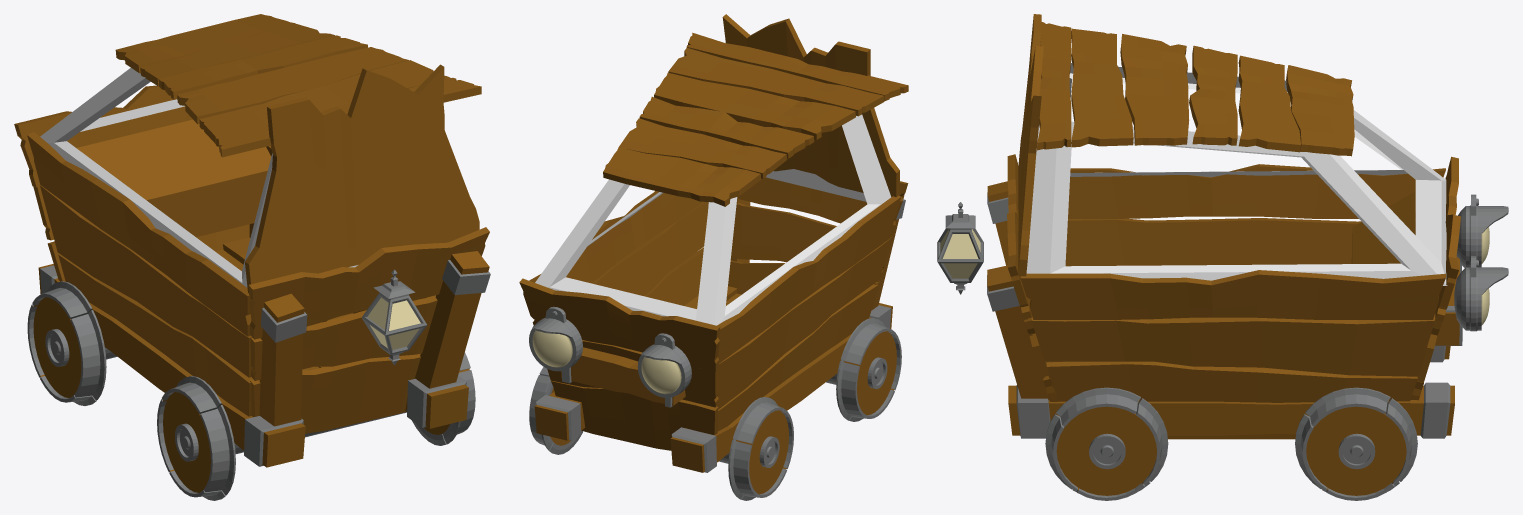
The model's file is cart_wip.fbx.
3 views of the same model, side by side, from view 1: azimuth 30°, elevation 25°; view 2: azimuth 150°, elevation 25°; view 3: azimuth 270°, elevation 25° (orthographic). The views are drawn at different scales.
Parts seen in each view (by area): view 1: Cube.032, Cube.023, Cube.013, Cube.012, Cube.004, Cube.005, Cube.024, wheel.002, wheel.003, Cube.017, Cube.014, Cube.030 (+15 smaller); view 2: Cube.024, Cube.032, Cube.010, Cube.013, Cube.012, Cube.009, Cube.030, Cube.027, Cube.031, Cube.017, wheel.002, wheel.003 (+19 smaller); view 3: Cube.024, Cube.008, Cube.007, Cube.013, Cube.012, Cube.006, wheel, wheel.004, Cube.020, Cube.030, Cube.031, Cube.027 (+16 smaller).
Part boxes in pixels (x1=…): Cube.032: x1=245, y1=64, x2=479, y2=298; Cube.023: x1=76, y1=119, x2=271, y2=237; Cube.013: x1=27, y1=132, x2=251, y2=336; Cube.012: x1=40, y1=185, x2=252, y2=377; Cube.004: x1=248, y1=227, x2=489, y2=339; Cube.005: x1=250, y1=353, x2=420, y2=433; Cube.024: x1=40, y1=68, x2=357, y2=287; wheel.002: x1=157, y1=376, x2=235, y2=500; wheel.003: x1=27, y1=281, x2=106, y2=405; Cube.017: x1=38, y1=264, x2=305, y2=467; Cube.014: x1=58, y1=254, x2=252, y2=416; Cube.030: x1=177, y1=47, x2=408, y2=124; Cube.024: x1=535, y1=114, x2=890, y2=325; Cube.032: x1=722, y1=14, x2=899, y2=197; Cube.010: x1=519, y1=278, x2=720, y2=372; Cube.013: x1=717, y1=195, x2=901, y2=363; Cube.012: x1=717, y1=238, x2=890, y2=409; Cube.009: x1=551, y1=380, x2=718, y2=450; Cube.030: x1=654, y1=72, x2=855, y2=139; Cube.027: x1=603, y1=147, x2=761, y2=206; Cube.031: x1=668, y1=47, x2=884, y2=116; Cube.017: x1=670, y1=303, x2=892, y2=472; wheel.002: x1=836, y1=318, x2=901, y2=421; wheel.003: x1=728, y1=397, x2=793, y2=500; Cube.024: x1=1026, y1=63, x2=1447, y2=285; Cube.008: x1=1031, y1=316, x2=1434, y2=376; Cube.007: x1=1020, y1=270, x2=1445, y2=319; Cube.013: x1=1068, y1=164, x2=1445, y2=218; Cube.012: x1=1065, y1=218, x2=1415, y2=266; Cube.006: x1=1046, y1=361, x2=1417, y2=434; wheel: x1=1045, y1=387, x2=1168, y2=500; wheel.004: x1=1295, y1=387, x2=1417, y2=500; Cube.020: x1=1008, y1=382, x2=1454, y2=438; Cube.030: x1=1120, y1=34, x2=1189, y2=145; Cube.031: x1=1071, y1=28, x2=1133, y2=147; Cube.027: x1=1286, y1=65, x2=1354, y2=156.
Size of the model in its own units: 136 by 207 by 264.
